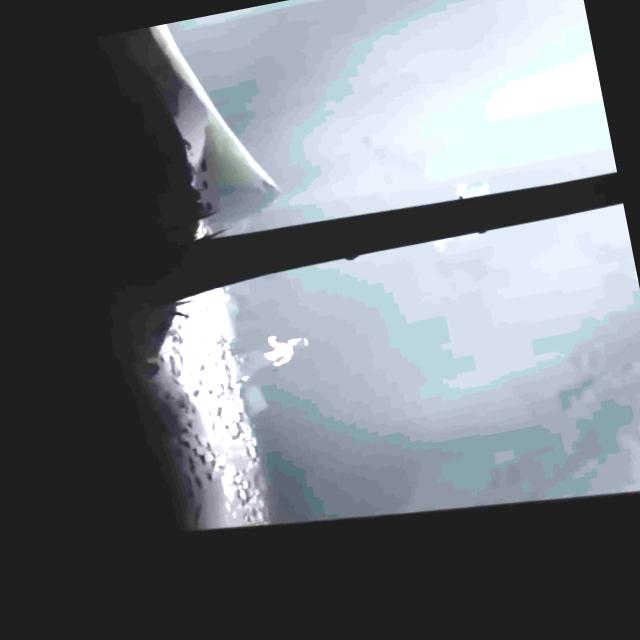boy: (227, 330, 312, 384)
